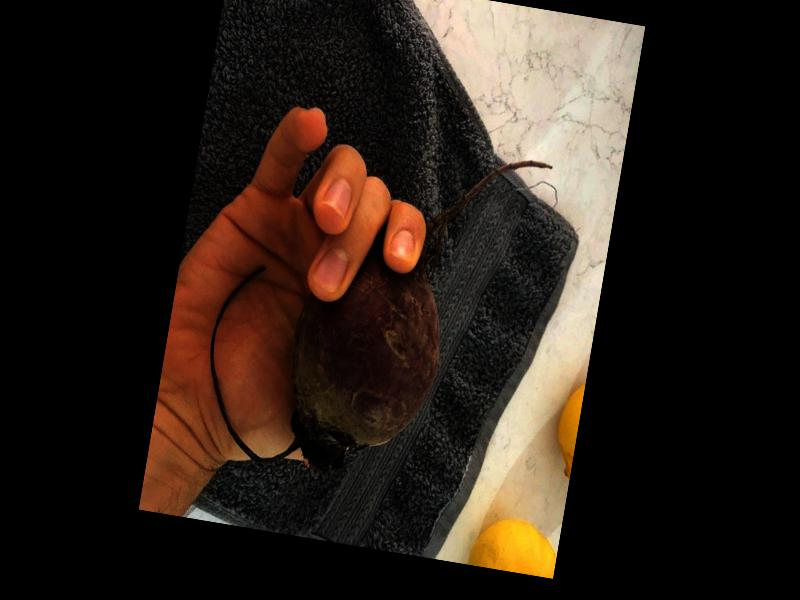Beet: (193, 114, 552, 498)
